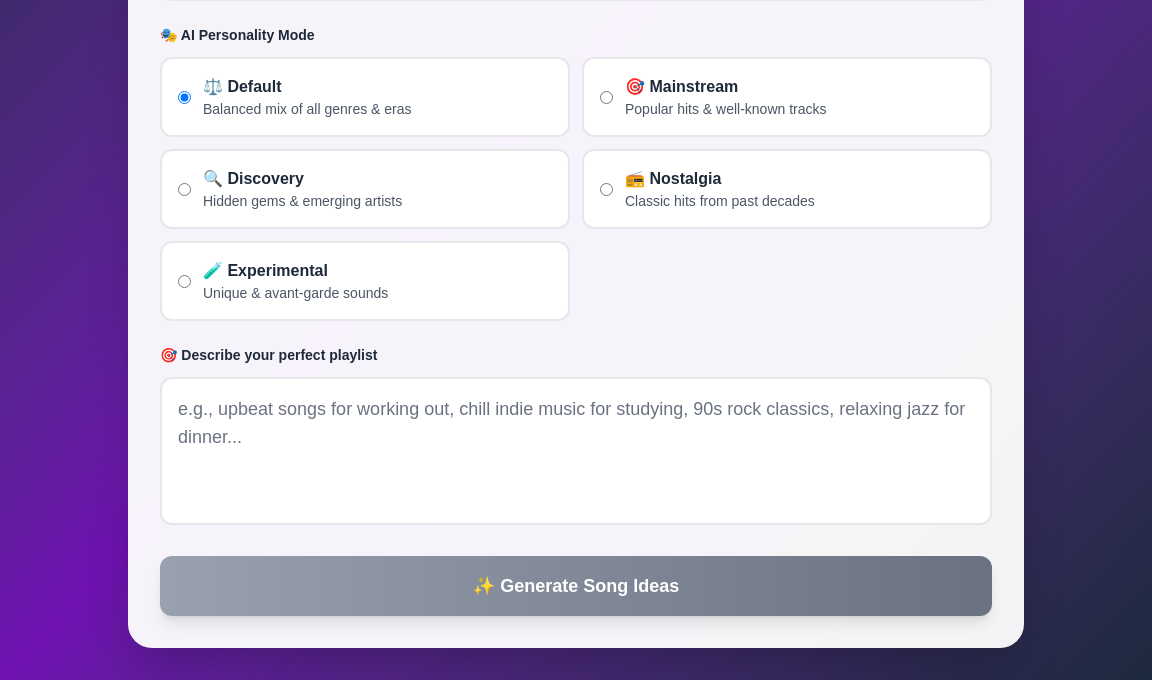
Test case: Home Component › Song Generation Flow › should handle errors during song generation
The image size is (1152, 680).
(page scrolled)
Replace the text in the text box labelled "🎯 Describe your perfect playlist" with "test music". click: [576, 451]
box: [160,377,992,525]
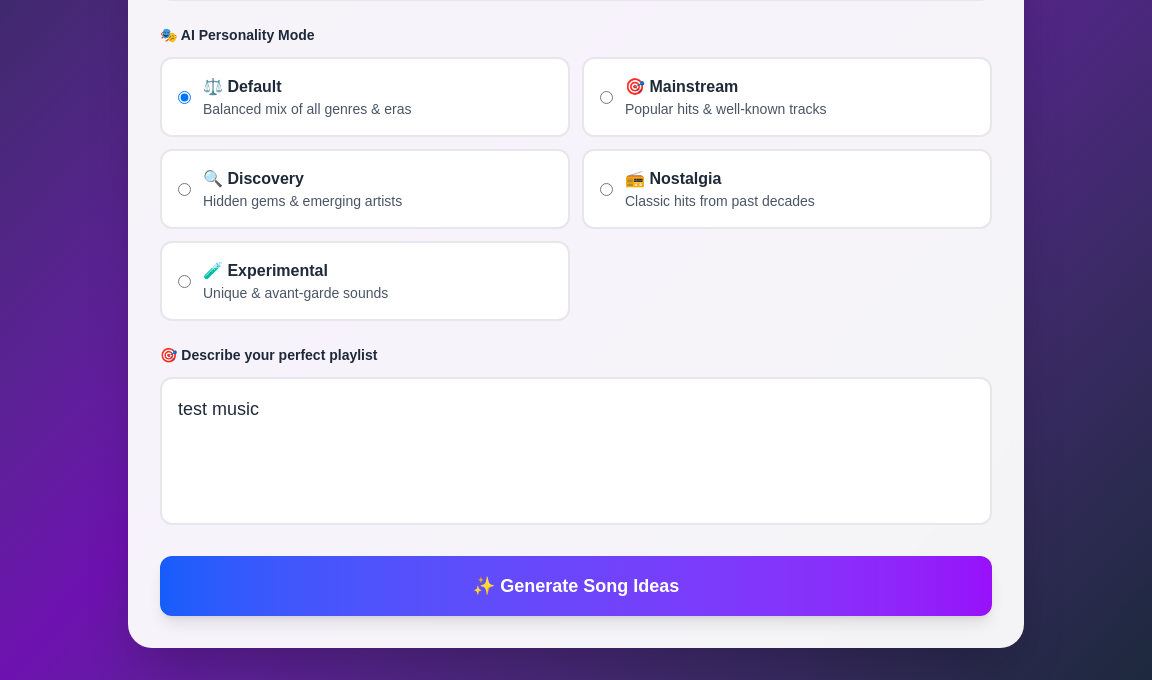
Click the button "✨ Generate Song Ideas". click: [576, 586]
box: [160,556,992,616]
(page scrolled)
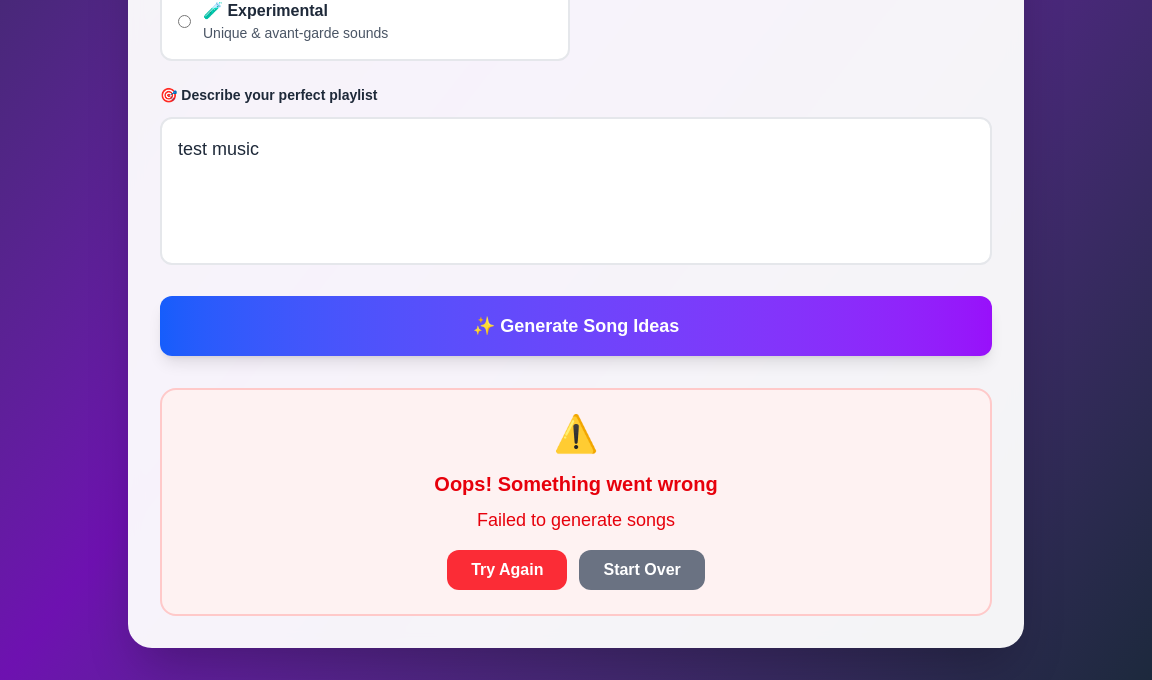
Now the heading "Oops! Something went wrong" is shown, box [434,473,718,495]
Now the text "Failed to generate songs" is shown, box [477,510,675,530]
